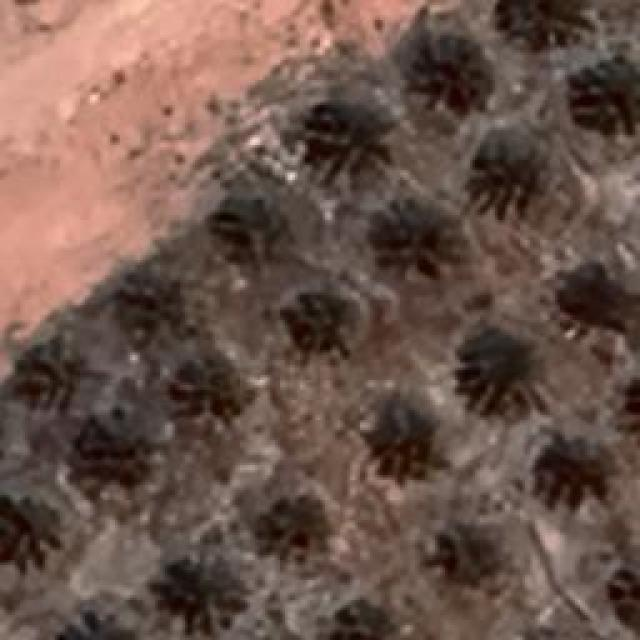PalmTree: (96, 29, 201, 591), (262, 488, 350, 566), (377, 200, 455, 285), (0, 492, 70, 580), (460, 338, 540, 412), (6, 341, 86, 414), (425, 518, 513, 582), (218, 192, 300, 260), (299, 90, 369, 168), (86, 421, 164, 491), (175, 350, 255, 418), (418, 28, 482, 112), (564, 262, 638, 332), (574, 55, 638, 135), (544, 436, 618, 504), (375, 404, 443, 476), (480, 136, 550, 204), (122, 275, 192, 343), (278, 301, 362, 354), (498, 0, 590, 48), (330, 602, 405, 640), (95, 73, 99, 625), (615, 368, 640, 446), (50, 620, 146, 640), (623, 364, 640, 444), (629, 364, 640, 443)
